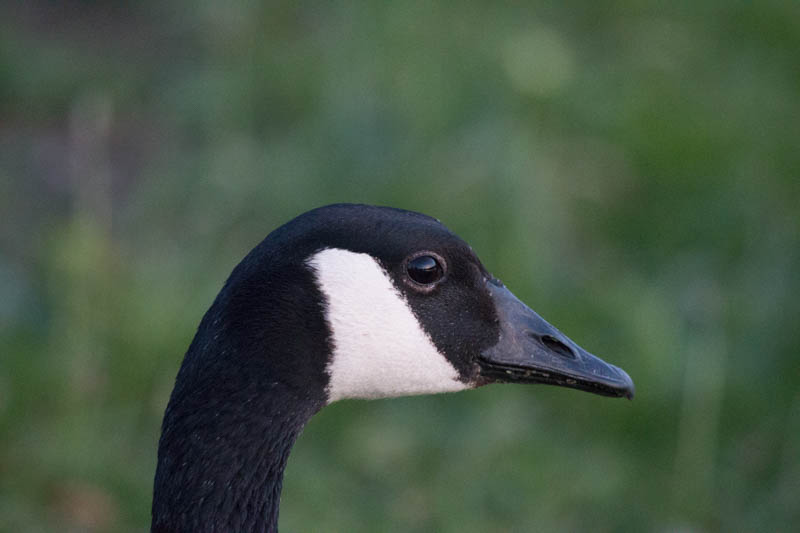goose-head: (211, 204, 636, 409)
